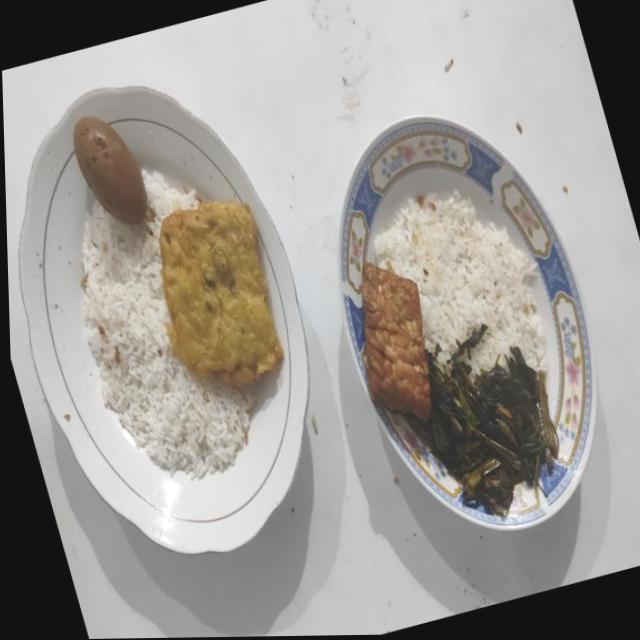nasi_putih: (81, 170, 254, 479), (374, 192, 546, 372)
tempe_goreng: (360, 262, 430, 419)
tumis_kangkung: (413, 324, 558, 516)
